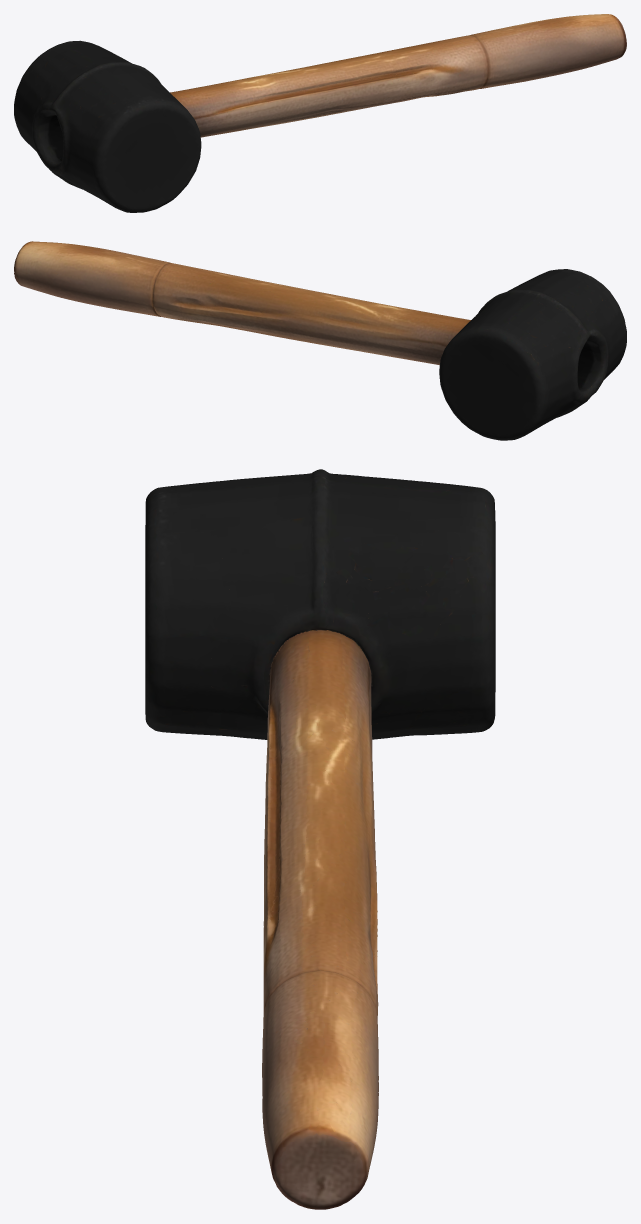
File: hammer.glb
3 views of the same model, one above another, from view 1: azimuth 30°, elevation 25°; view 2: azimuth 150°, elevation 25°; view 3: azimuth 270°, elevation 25° (orthographic). The views are drawn at different scales.
Visible parts, largest first — view 1: world; view 2: world; view 3: world.
Boxes of the visible parts, x1,y1,x2,y2 form: world: (14,14,626,212); world: (14,241,626,440); world: (145,469,495,1209).
Size of the model in its own units: 0.34 by 0.0718 by 0.0907.
1 material, 1 textured.
